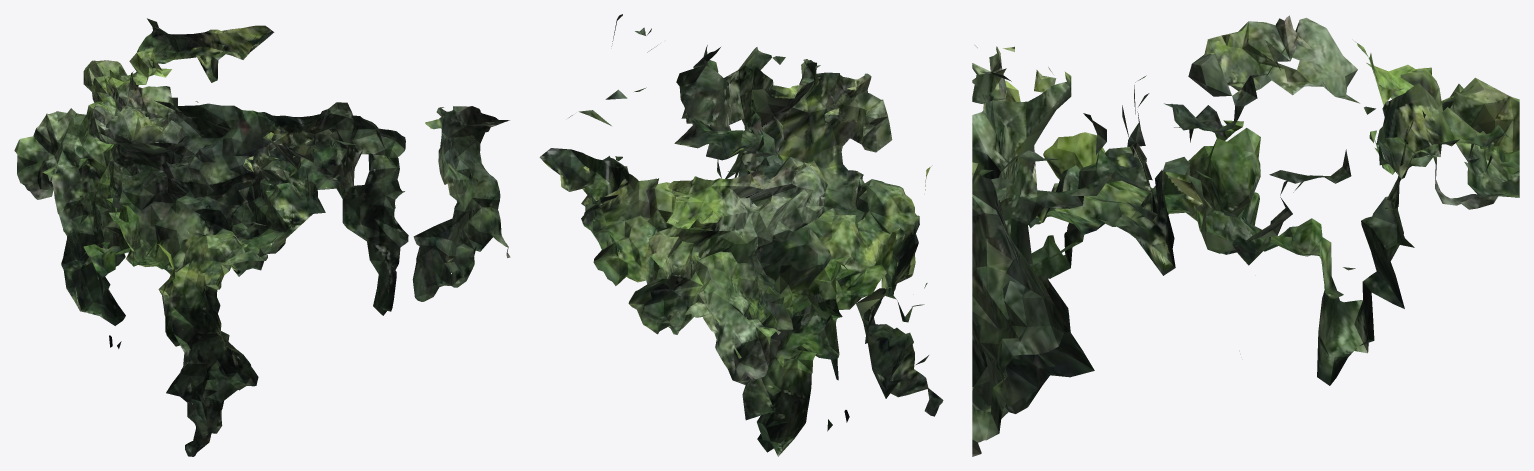
The picture shows the model from 3 angles, left to right: view 1: azimuth 30°, elevation 25°; view 2: azimuth 150°, elevation 25°; view 3: azimuth 270°, elevation 25°; orthographic projection. The views are drawn at different scales.
Bounding box in the file's own units: 26.11 × 22.45 × 26.11.
Materials: 5 (5 with a texture image).
